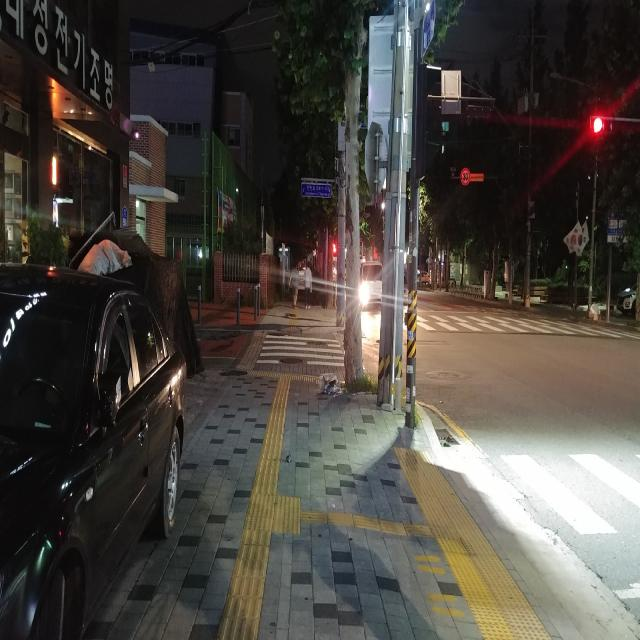횡단보도: (417, 312, 622, 338), (256, 335, 345, 366)
